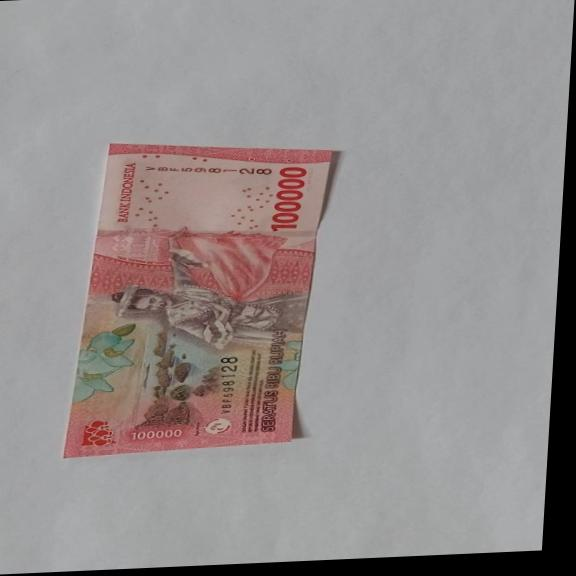Kertas: (267, 164, 309, 232)
